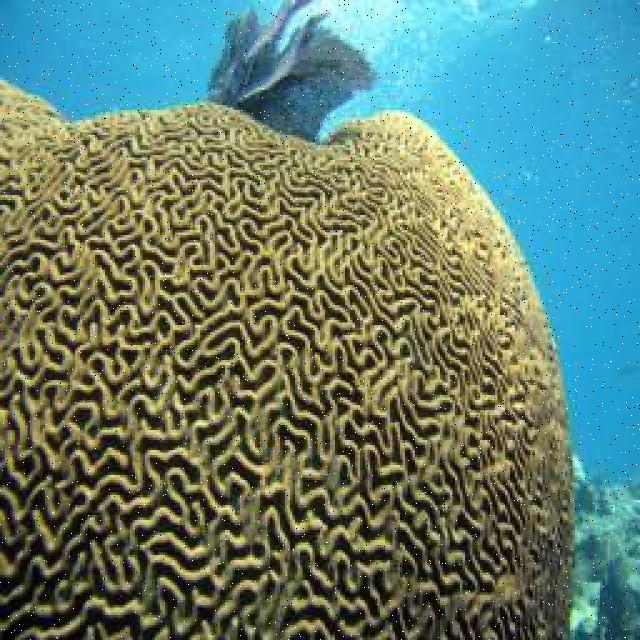reefs: (0, 0, 575, 638)
